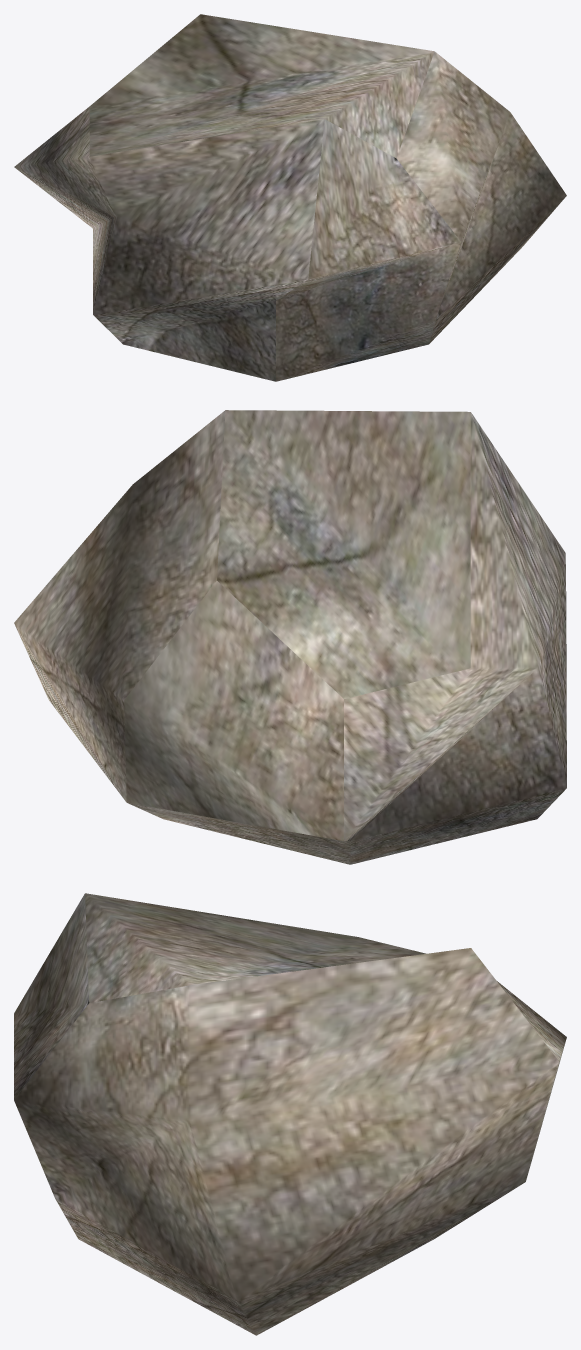
The model's file is rubblePiece_1.obj.
The picture shows the model from 3 angles, top to bottom: view 1: azimuth 30°, elevation 25°; view 2: azimuth 150°, elevation 25°; view 3: azimuth 270°, elevation 25°; orthographic projection. The views are drawn at different scales.
Parts seen in each view (by area): view 1: pSphere1; view 2: pSphere1; view 3: pSphere1.
Boxes of the visible parts, x1,y1,x2,y2 form: pSphere1: [14, 14, 566, 381]; pSphere1: [14, 410, 566, 864]; pSphere1: [14, 893, 566, 1335].
Bounding box in the file's own units: 0.1572 × 0.0805 × 0.1398.
1 material, 1 textured.
